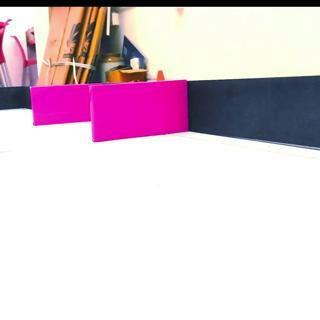xparking: (92, 81, 188, 140), (31, 86, 88, 125)
